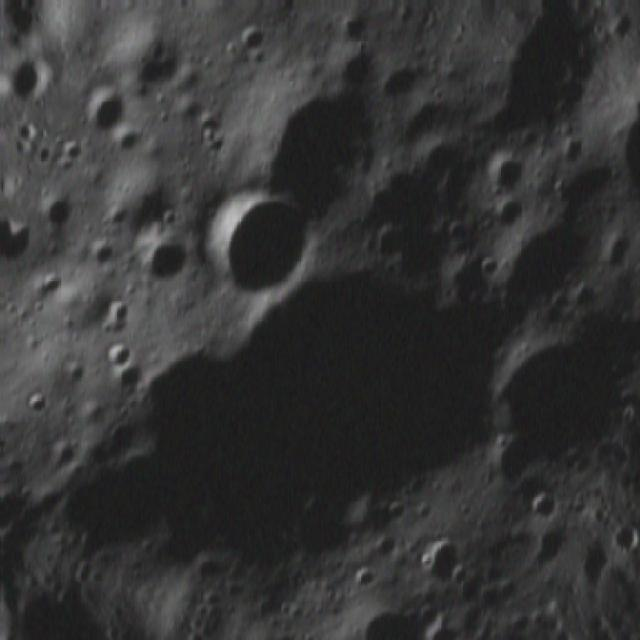crater: (56, 203, 516, 640), (458, 318, 639, 518), (173, 159, 344, 333), (244, 63, 404, 222), (483, 197, 622, 343), (115, 217, 196, 300), (320, 30, 383, 98), (74, 79, 134, 146), (372, 48, 430, 112), (341, 598, 428, 640), (220, 15, 278, 76), (478, 142, 534, 203), (30, 182, 88, 240), (480, 185, 538, 240), (415, 527, 467, 588), (1, 211, 44, 272), (91, 290, 138, 344), (94, 329, 137, 377), (522, 482, 566, 526), (12, 384, 52, 428)
